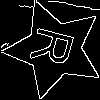R: (29, 24, 85, 72)
